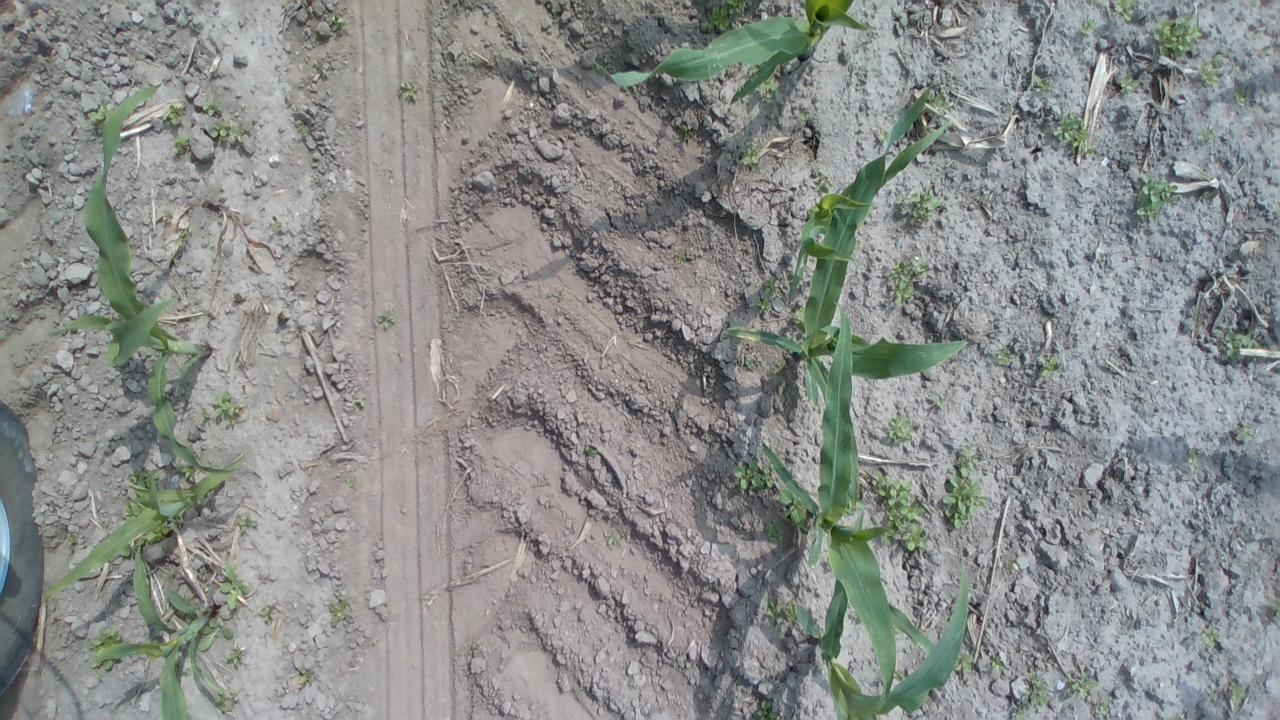Maize: (722, 92, 968, 408), (50, 84, 241, 476), (758, 345, 896, 704), (785, 121, 954, 309), (792, 555, 972, 720), (39, 459, 247, 600), (586, 0, 874, 93), (93, 539, 221, 720)
Weeds: (868, 472, 928, 552), (942, 444, 986, 530), (1152, 14, 1203, 62), (882, 254, 928, 307), (1137, 174, 1177, 224), (1012, 672, 1053, 720), (894, 185, 942, 226), (1052, 111, 1094, 156), (696, 0, 748, 33), (729, 460, 775, 494), (89, 628, 122, 671), (218, 562, 248, 608), (776, 487, 808, 529), (196, 616, 234, 651), (206, 116, 250, 142), (918, 86, 952, 118), (211, 391, 242, 424), (753, 73, 786, 103), (1197, 55, 1225, 88), (1223, 332, 1257, 359), (886, 414, 916, 443), (765, 598, 797, 624), (1070, 673, 1100, 699), (328, 597, 354, 626), (126, 468, 160, 490), (736, 142, 762, 170), (1036, 354, 1066, 378), (216, 686, 241, 712), (816, 168, 840, 194), (327, 8, 353, 31), (162, 102, 185, 126), (754, 699, 780, 720), (309, 57, 329, 84), (395, 77, 419, 99), (1113, 0, 1137, 22), (375, 304, 395, 328), (766, 519, 786, 543), (200, 96, 223, 116), (169, 134, 189, 157), (771, 357, 788, 384), (146, 523, 168, 543), (1234, 422, 1256, 442), (750, 296, 774, 314), (225, 647, 247, 666), (1118, 77, 1140, 96), (87, 104, 104, 127), (1032, 73, 1052, 92), (954, 654, 974, 673), (122, 500, 140, 521), (175, 224, 192, 246), (235, 514, 258, 530), (1228, 684, 1248, 702), (1202, 628, 1220, 647), (760, 278, 780, 295), (1080, 18, 1100, 34), (994, 350, 1014, 366), (1198, 127, 1216, 144), (602, 528, 619, 546), (1186, 451, 1200, 472), (296, 118, 312, 136), (178, 462, 194, 480), (297, 670, 315, 686), (991, 655, 1006, 674), (1095, 702, 1110, 720), (352, 398, 367, 414), (258, 606, 272, 623), (931, 394, 946, 409), (877, 128, 892, 143), (1232, 88, 1246, 103), (740, 354, 754, 369), (1270, 597, 1280, 617), (673, 252, 687, 266), (342, 478, 360, 488), (64, 532, 78, 544), (800, 112, 813, 124), (278, 0, 296, 8), (1007, 560, 1019, 572), (584, 445, 598, 455), (161, 211, 172, 223), (199, 407, 209, 418), (271, 222, 281, 232), (678, 124, 688, 132), (1202, 188, 1210, 198)
